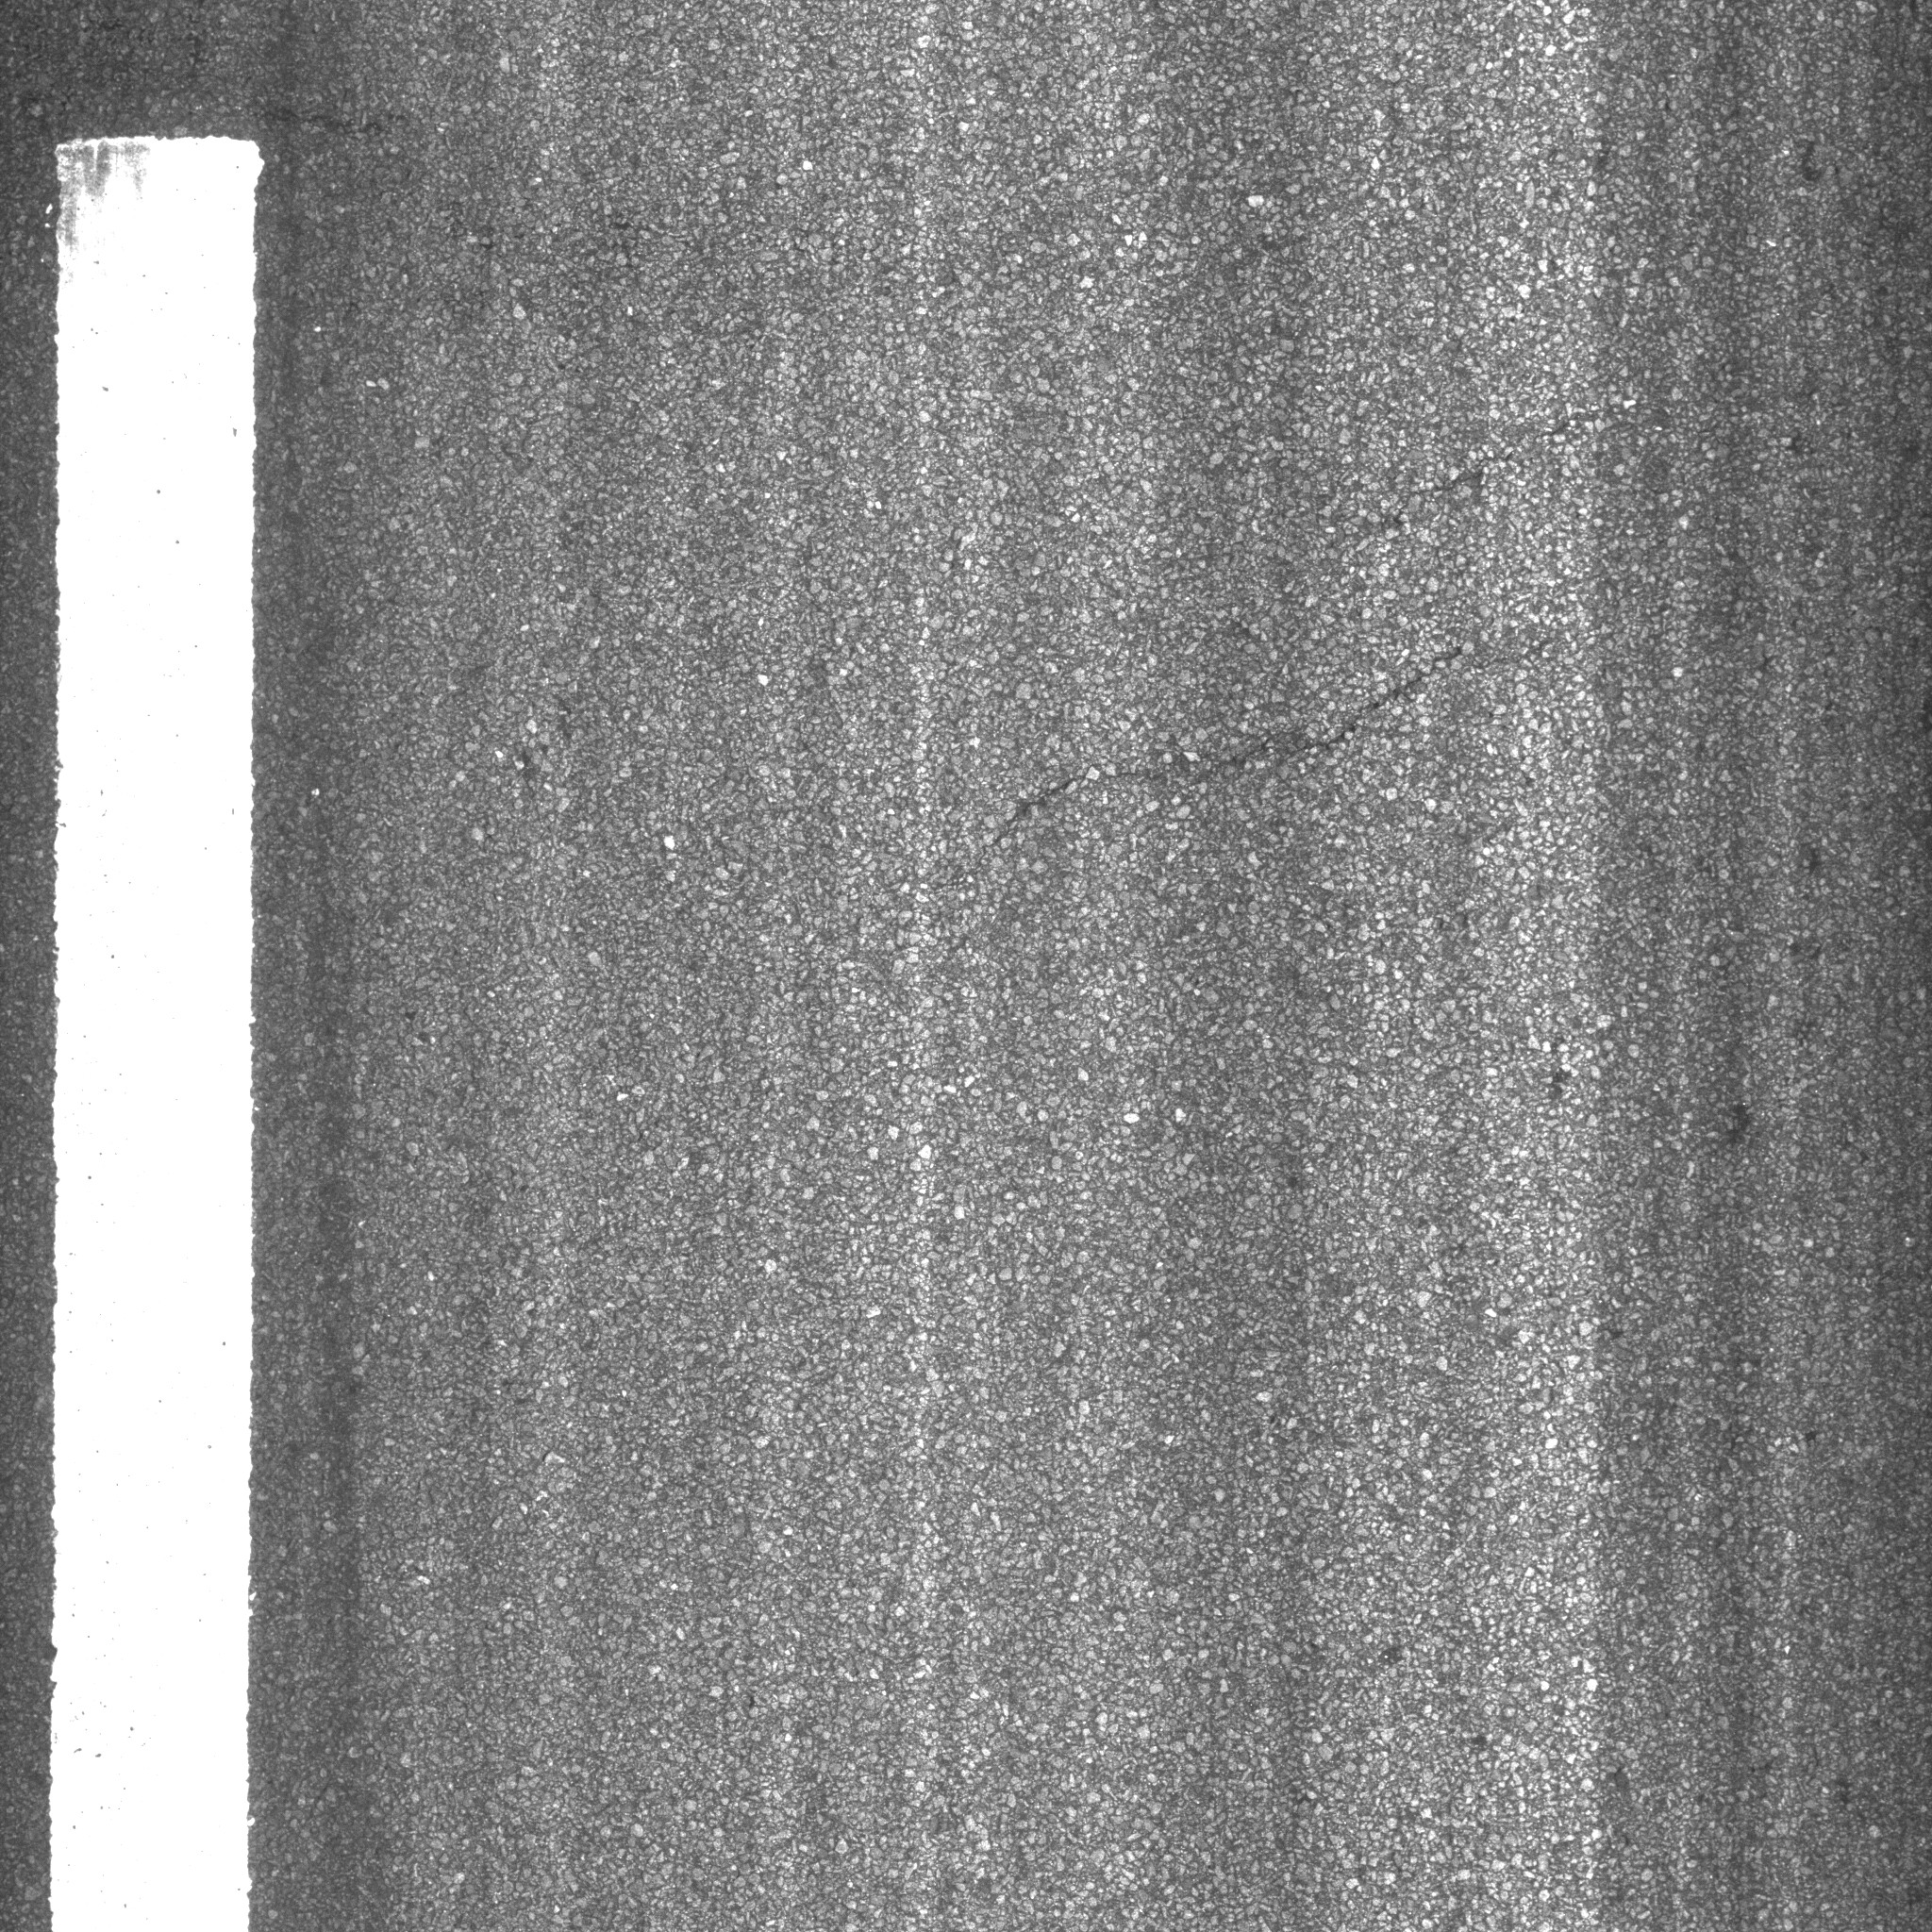transverse: (862, 575, 1546, 869)
